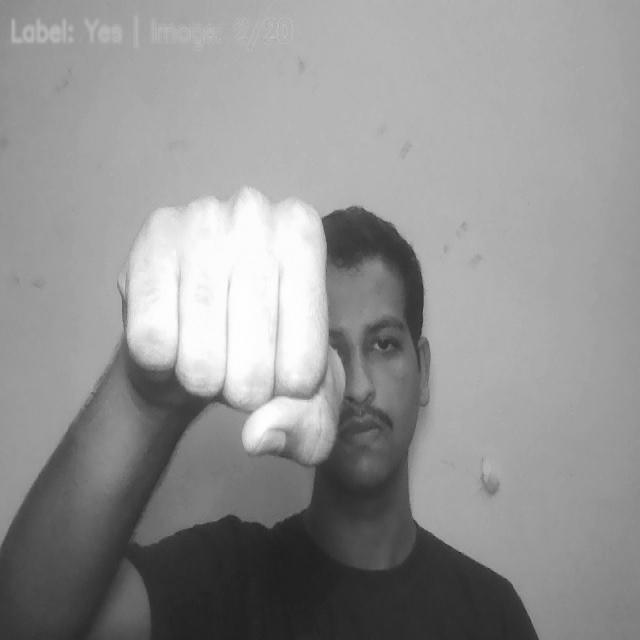Yes: (108, 183, 348, 470)
